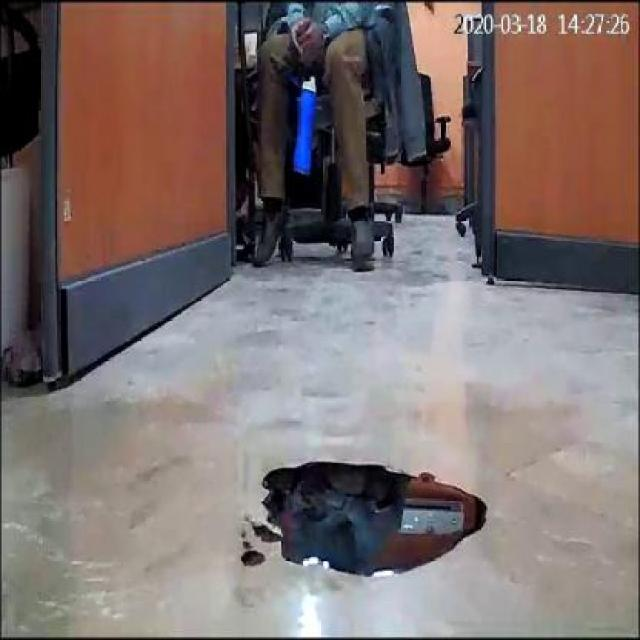spill: (257, 460, 488, 566)
